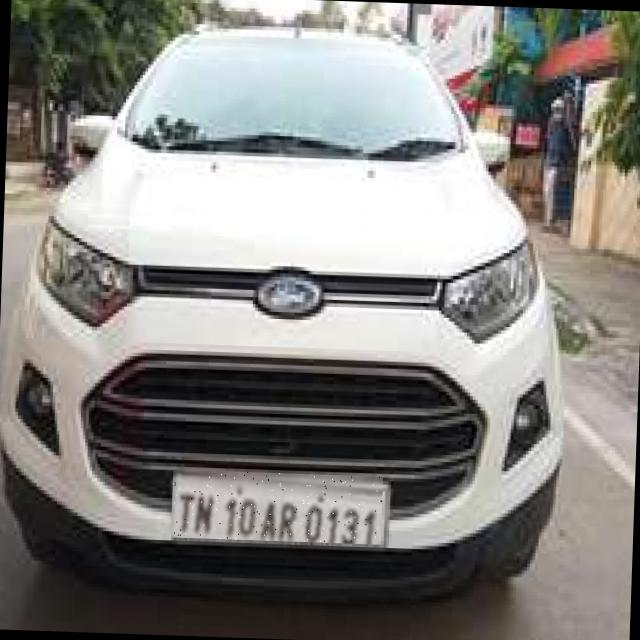Plate: (172, 470, 384, 545)
